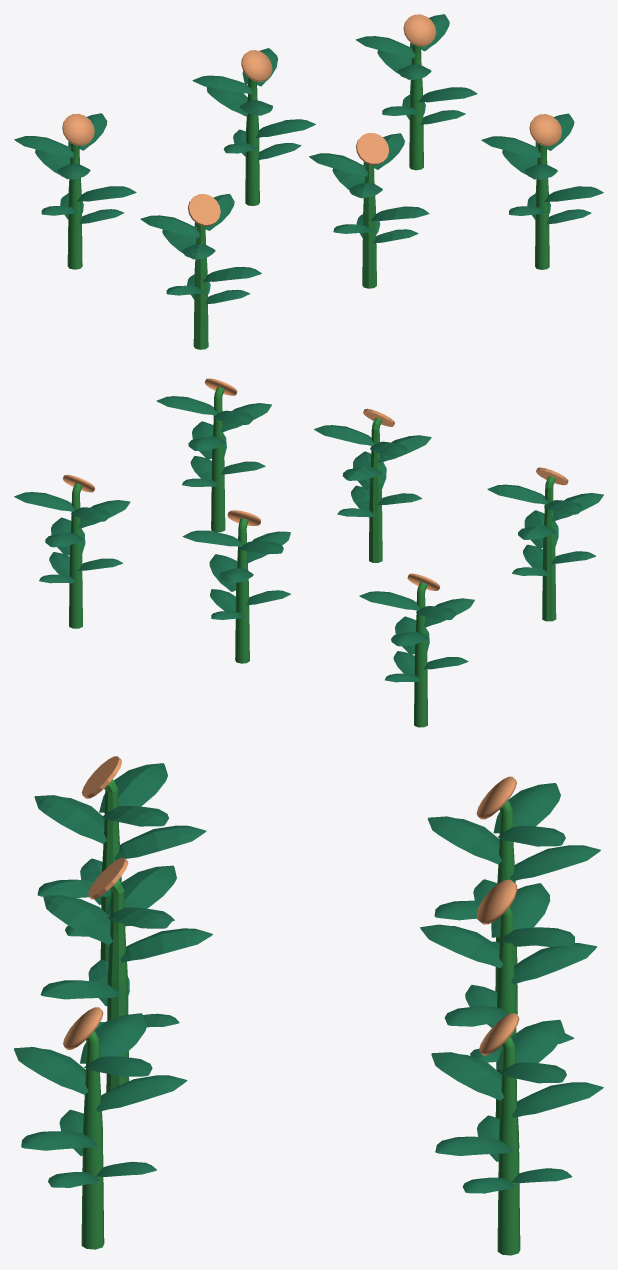
Rendered from middel plantjes.fbx.
3 renders of one model, top to bottom at view 1: azimuth 30°, elevation 25°; view 2: azimuth 150°, elevation 25°; view 3: azimuth 270°, elevation 25°, orthographic. The views are drawn at different scales.
Parts seen in each view (by area): view 1: Plane.029, Plane.037, Plane.030, Plane.028, Plane.031, Plane.040; view 2: Plane.029, Plane.031, Plane.040, Plane.028, Plane.030, Plane.037; view 3: Plane.030, Plane.031, Plane.037, Plane.029, Plane.040, Plane.028.
Boxes of the visible parts, box(x1,y1,x2,y2) form: Plane.029: box(192, 48, 315, 205); Plane.037: box(309, 133, 429, 288); Plane.030: box(355, 14, 477, 170); Plane.028: box(14, 113, 136, 269); Plane.031: box(481, 113, 603, 269); Plane.040: box(140, 194, 261, 349); Plane.029: box(182, 510, 290, 663); Plane.031: box(156, 378, 271, 532); Plane.040: box(487, 467, 603, 621); Plane.028: box(359, 573, 474, 727); Plane.030: box(14, 474, 130, 628); Plane.037: box(314, 408, 431, 562); Plane.030: box(431, 1013, 603, 1255); Plane.031: box(14, 1007, 187, 1249); Plane.037: box(40, 858, 212, 1092); Plane.029: box(420, 879, 596, 1118); Plane.040: box(34, 756, 206, 961); Plane.028: box(428, 776, 600, 1014).
Bounding box in the file's own units: 1.88 × 0.7536 × 1.42.
